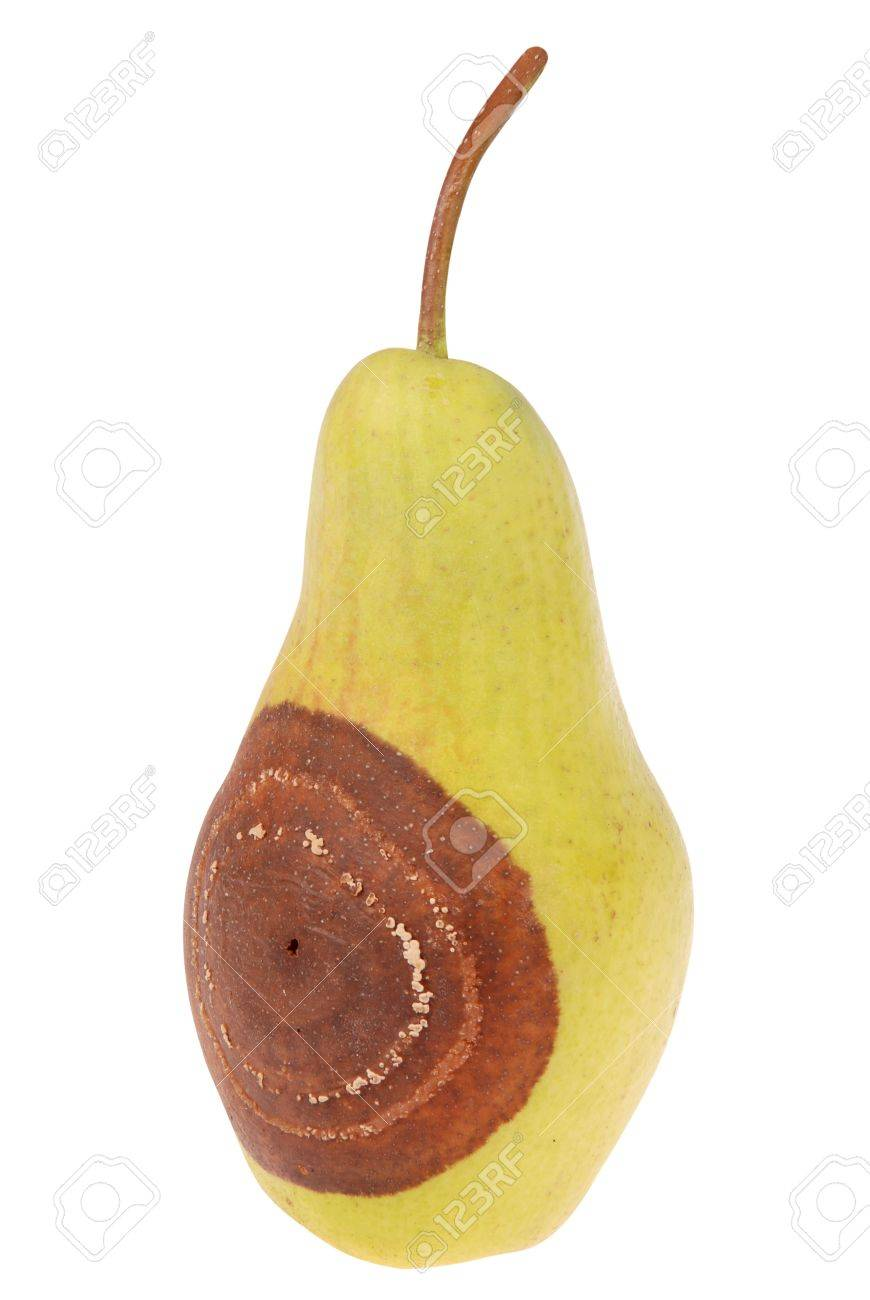damaged_pear: (212, 347, 675, 1255)
